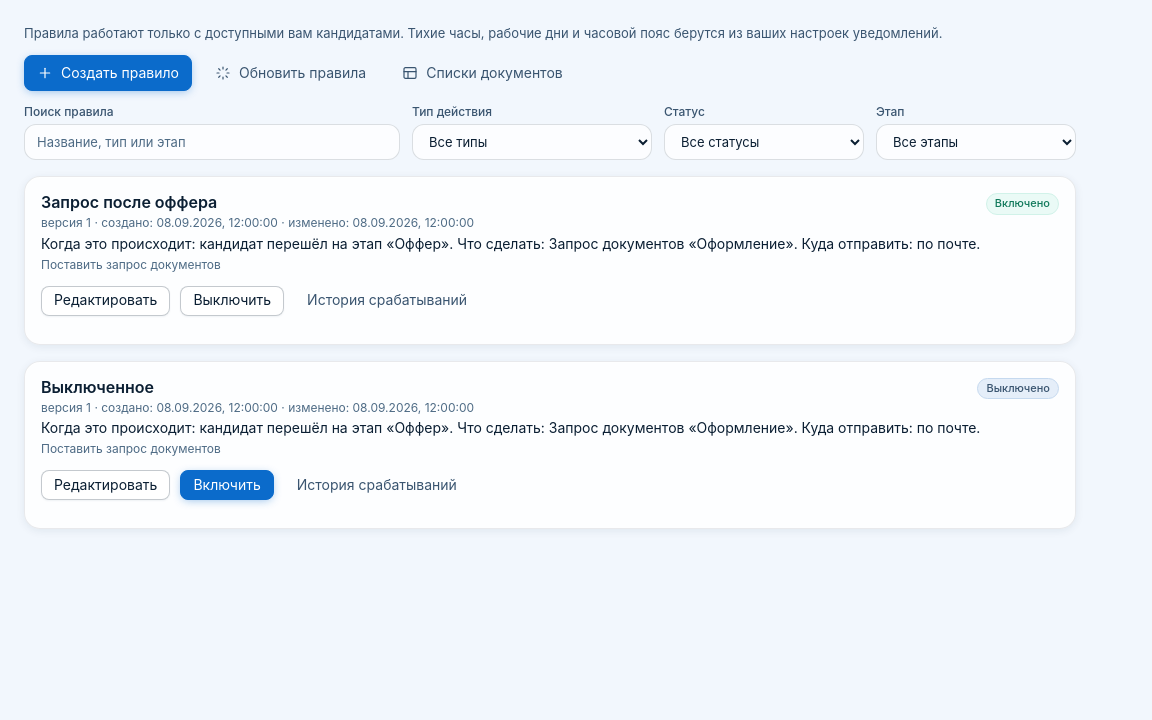
Test case: Мои правила › filters rules by enabled status
The image size is (1152, 720).
Expected: the heading "Запрос после оффера" is shown, [41,192,217,212]
Expected: the heading "Выключенное" is shown, [41,376,154,396]
Select "Включённые" in the dropdown labelled "Статус" at (764, 142), box [664,124,864,160]
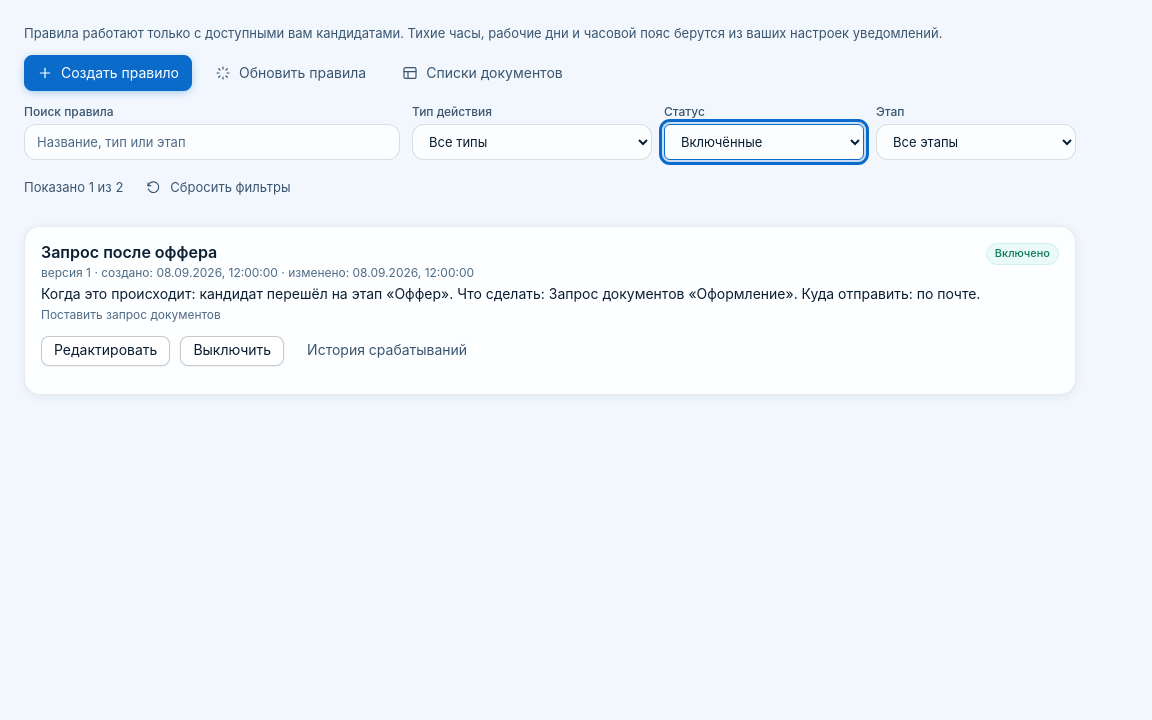
Now the text "Показано 1 из 2" is shown, box [24,178,123,197]
Now the heading "Выключенное" is gone
Select "Выключенные" in the dropdown labelled "Статус" at (764, 142), box [664,124,864,160]
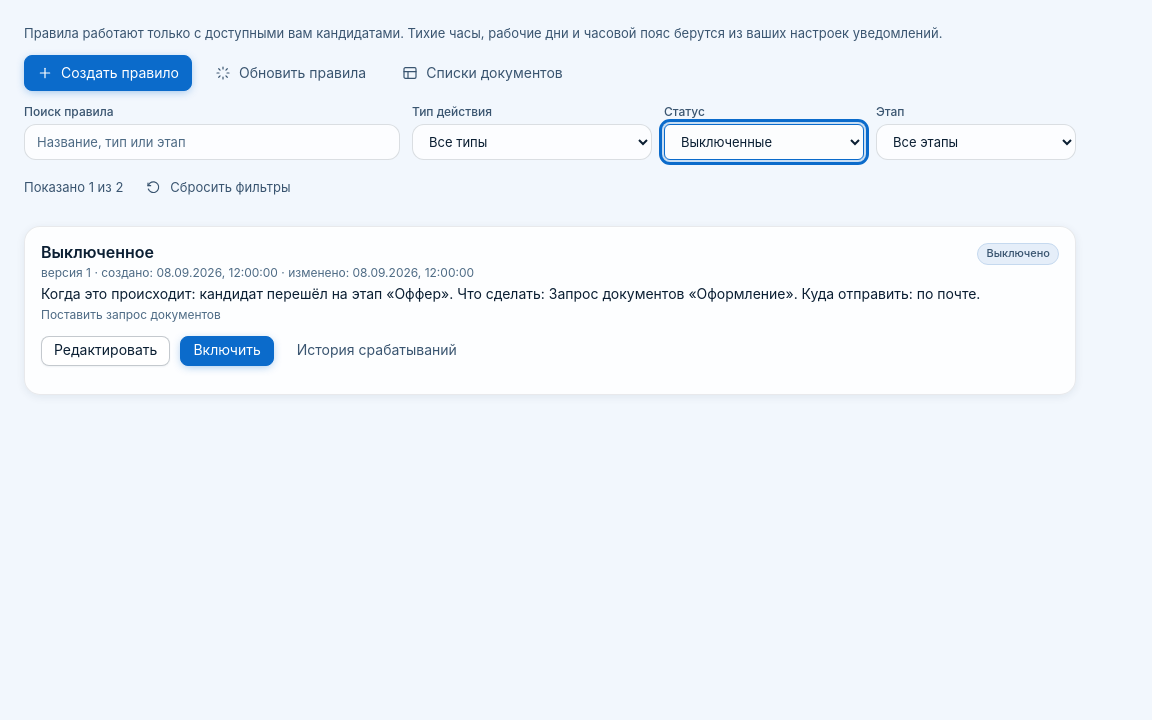
Now the text "Показано 1 из 2" is shown, box [24,178,123,197]
Now the heading "Выключенное" is shown, box [41,242,154,262]
Now the heading "Запрос после оффера" is gone
